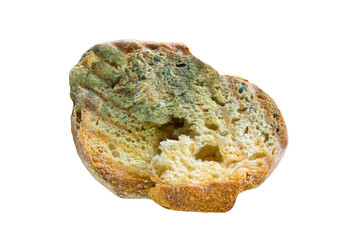mold_bread: (68, 36, 216, 133), (223, 74, 286, 142)
